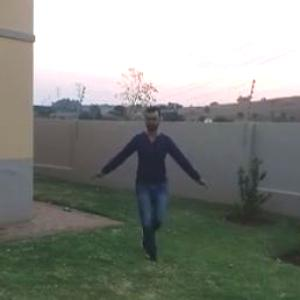land: (95, 93, 214, 270)
